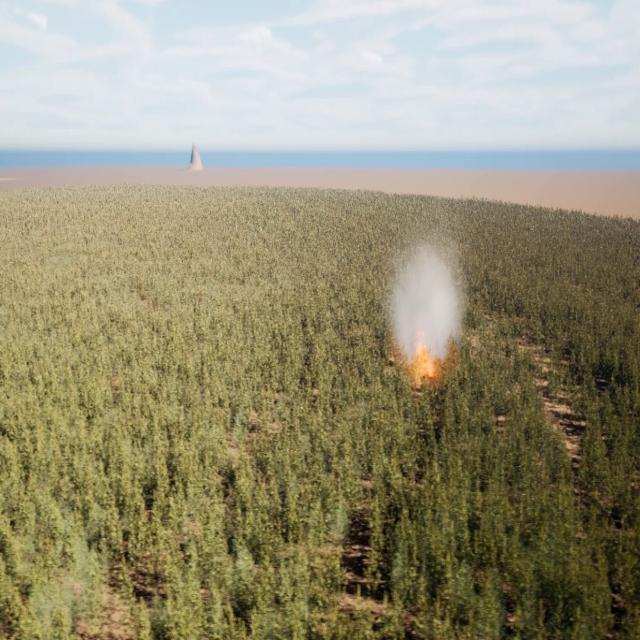fire: (416, 330, 434, 377)
smoke: (387, 236, 464, 368)
